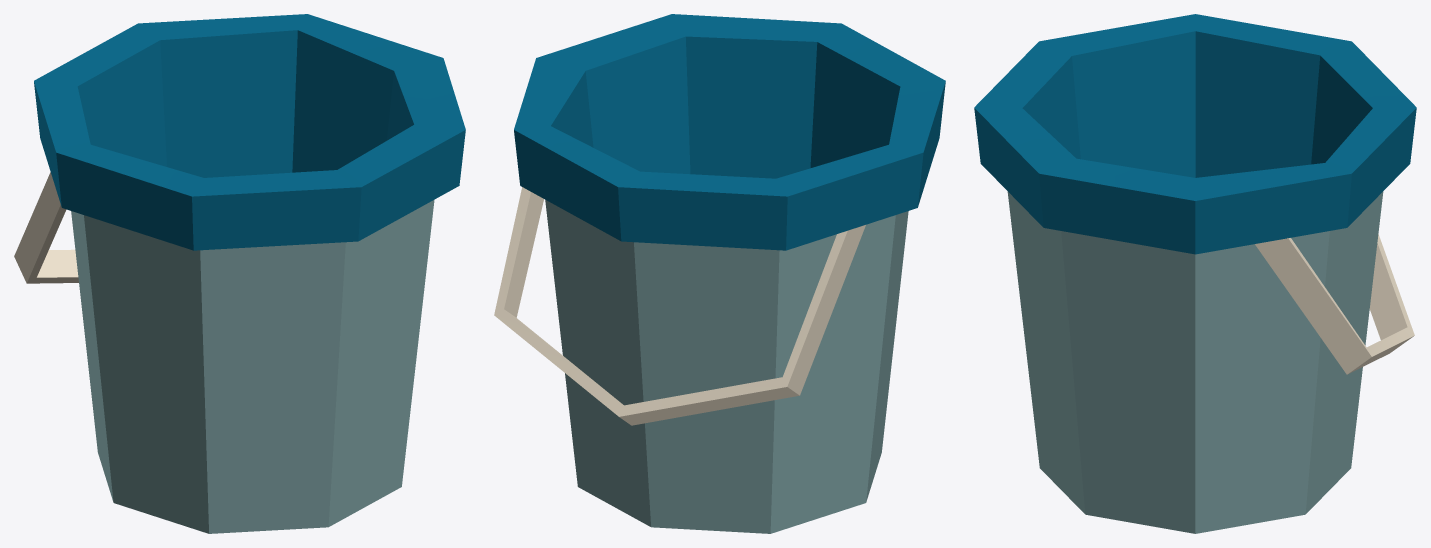
File: sand_bucket1.fbx
3 renders of one model, left to right at view 1: azimuth 30°, elevation 25°; view 2: azimuth 150°, elevation 25°; view 3: azimuth 270°, elevation 25°, orthographic.
Parts seen in each view (by area): view 1: pPipe2; view 2: pPipe2; view 3: pPipe2.
Boxes of the visible parts, x1,y1,x2,y2 form: pPipe2: (14,14,465,533); pPipe2: (494,14,945,533); pPipe2: (974,14,1416,533).
Bounding box in the file's own units: 50.81 × 45.68 × 50.81.
